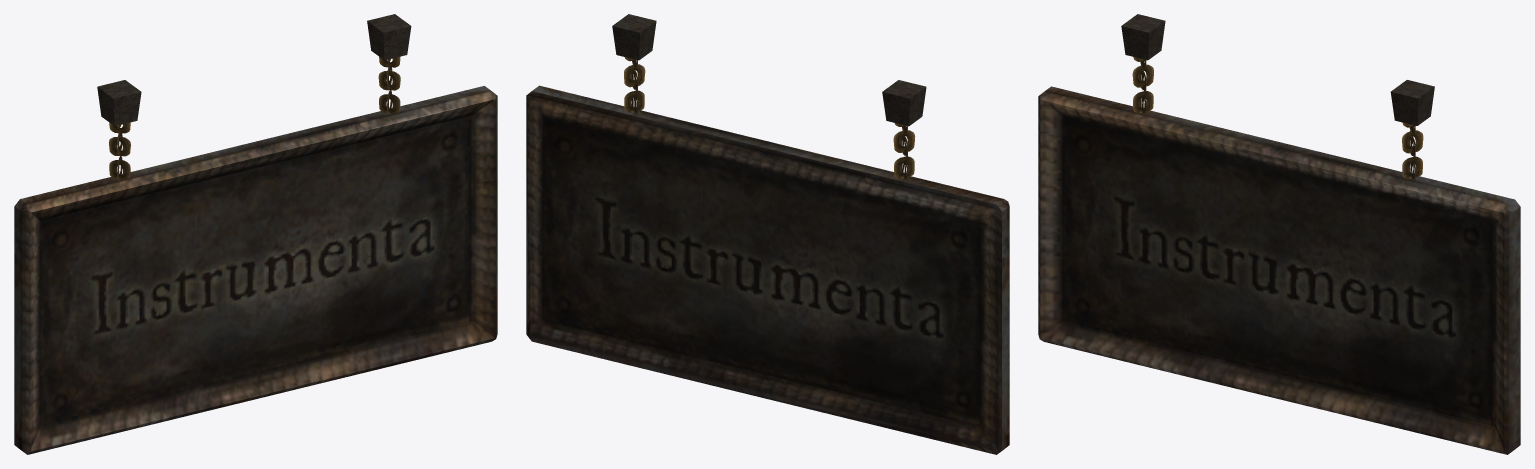
File: sign_equipment.dae
The picture shows the model from 3 angles, left to right: view 1: azimuth 30°, elevation 25°; view 2: azimuth 150°, elevation 25°; view 3: azimuth 330°, elevation 25°; orthographic projection.
Parts seen in each view (by area): view 1: Scene_Root; view 2: Scene_Root; view 3: Scene_Root.
Boxes of the visible parts, x1,y1,x2,y2 form: Scene_Root: (14,14,497,454); Scene_Root: (526,14,1009,454); Scene_Root: (1038,14,1520,454).
Bounding box in the file's own units: 0.6037 × 0.0361 × 0.4118.
